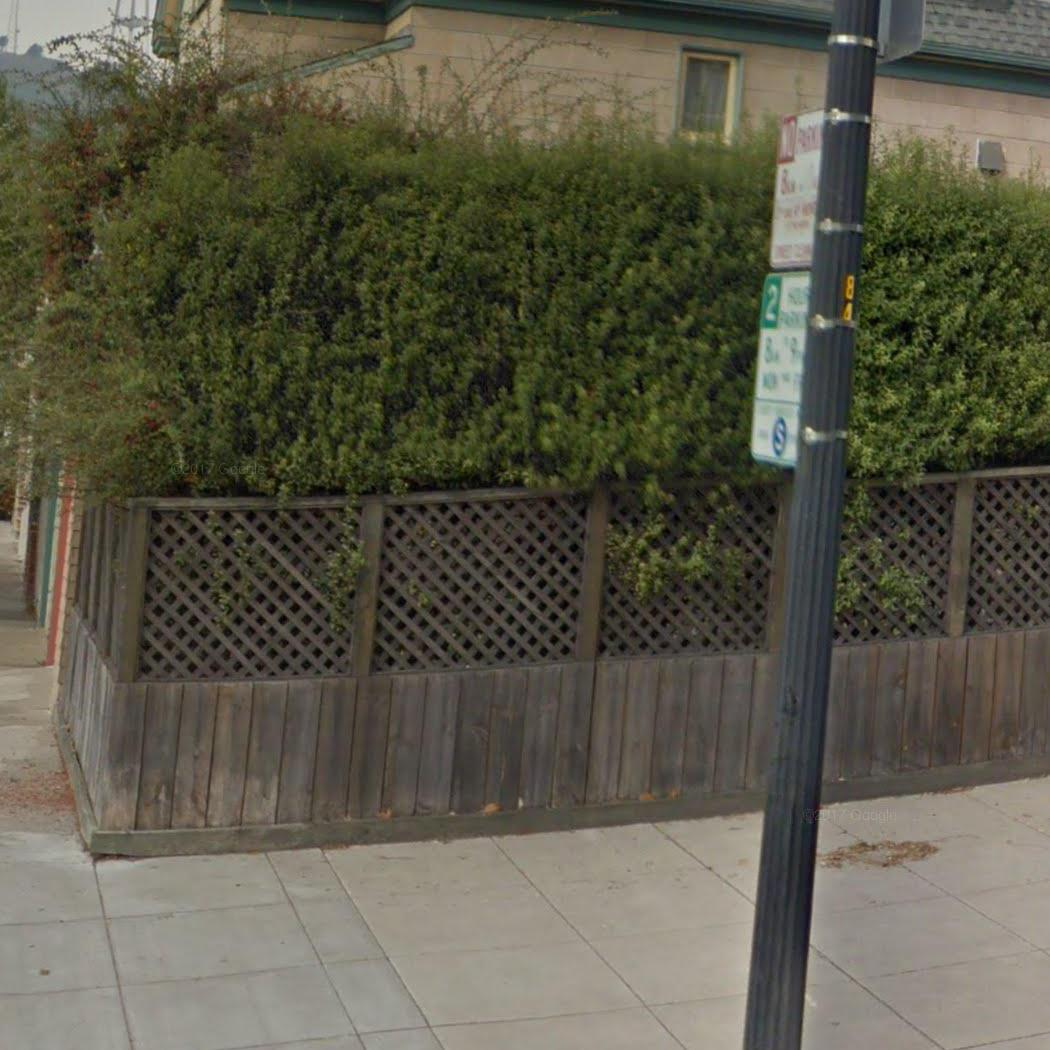2 Hour Parking: (746, 267, 817, 471)
No Parking: (762, 109, 829, 281)
